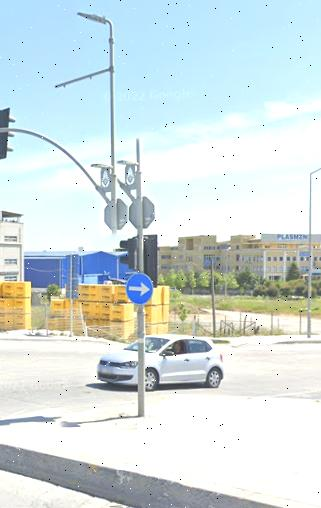turnright: (127, 274, 154, 301)
